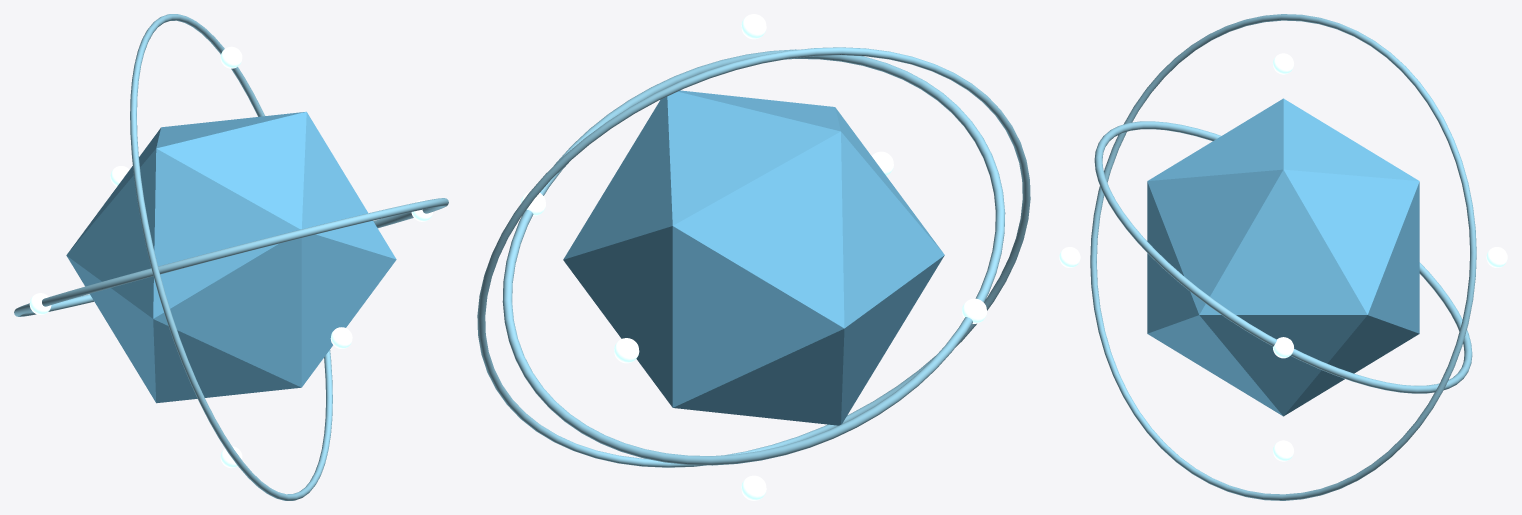
File: ai-core.glb
The picture shows the model from 3 angles, left to right: view 1: azimuth 30°, elevation 25°; view 2: azimuth 150°, elevation 25°; view 3: azimuth 270°, elevation 25°; orthographic projection. The views are drawn at different scales.
Parts seen in each view (by area): view 1: OuterCrystal, OrbitalRing2, OrbitalRing1, NeuralCore; view 2: OuterCrystal, OrbitalRing1, OrbitalRing2, NeuralCore; view 3: OuterCrystal, OrbitalRing2, OrbitalRing1, NeuralCore.
Boxes of the visible parts, left/top/right/bottom form: OuterCrystal: left=66, top=111, right=396, bottom=403; OrbitalRing2: left=130, top=14, right=332, bottom=500; OrbitalRing1: left=14, top=198, right=448, bottom=316; NeuralCore: left=29, top=46, right=432, bottom=468; OuterCrystal: left=563, top=90, right=944, bottom=425; OrbitalRing1: left=502, top=49, right=1005, bottom=465; OrbitalRing2: left=477, top=47, right=1030, bottom=467; NeuralCore: left=521, top=14, right=986, bottom=500; OuterCrystal: left=1147, top=98, right=1419, bottom=416; OrbitalRing2: left=1090, top=14, right=1476, bottom=500; OrbitalRing1: left=1094, top=121, right=1472, bottom=393; NeuralCore: left=1059, top=53, right=1507, bottom=461.
Bounding box in the file's own units: 3.36 × 3.42 × 3.36.
